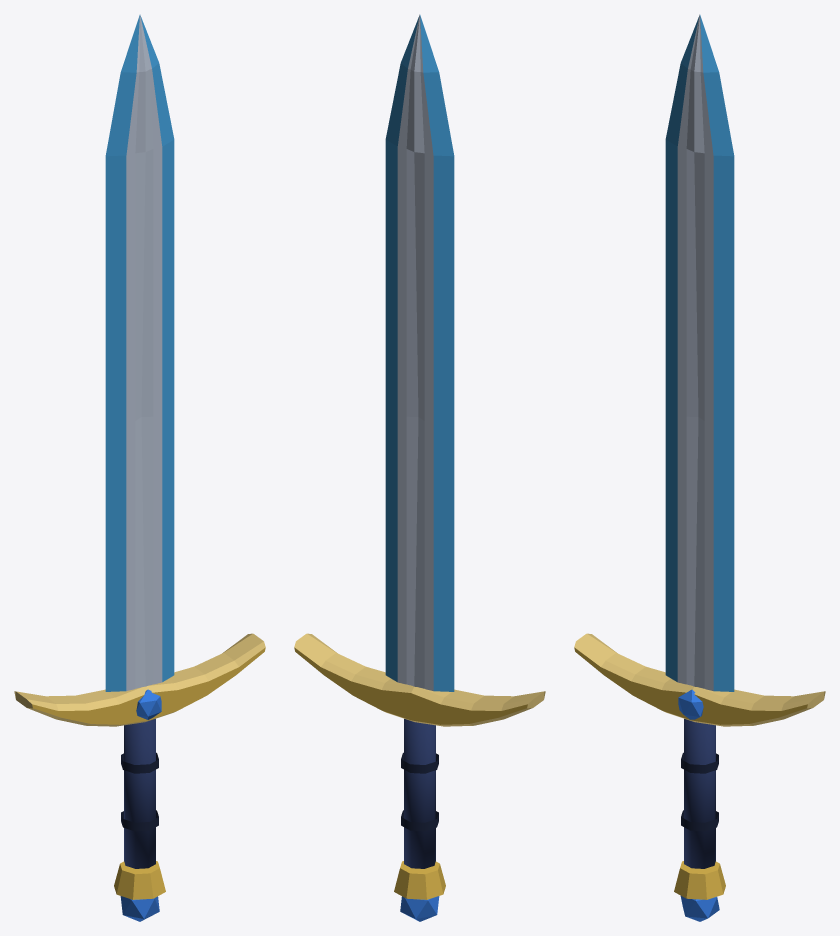
Rendered from enchanted_sword.glb.
The picture shows the model from 3 angles, left to right: view 1: azimuth 30°, elevation 25°; view 2: azimuth 150°, elevation 25°; view 3: azimuth 330°, elevation 25°; orthographic projection.
Visible parts, largest first — view 1: enchanted_sword_v0; view 2: enchanted_sword_v0; view 3: enchanted_sword_v0.
Part boxes in pixels (x1=…): enchanted_sword_v0: x1=14, y1=14, x2=265, y2=921; enchanted_sword_v0: x1=294, y1=14, x2=545, y2=921; enchanted_sword_v0: x1=574, y1=14, x2=825, y2=921.
Size of the model in its own units: 0.345 by 1.26 by 0.068.
